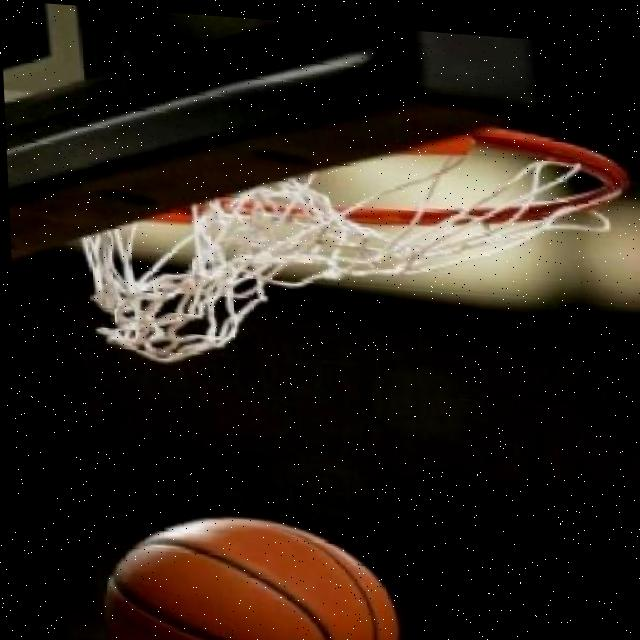basketball: (99, 497, 410, 640)
hoop: (71, 90, 640, 403)
